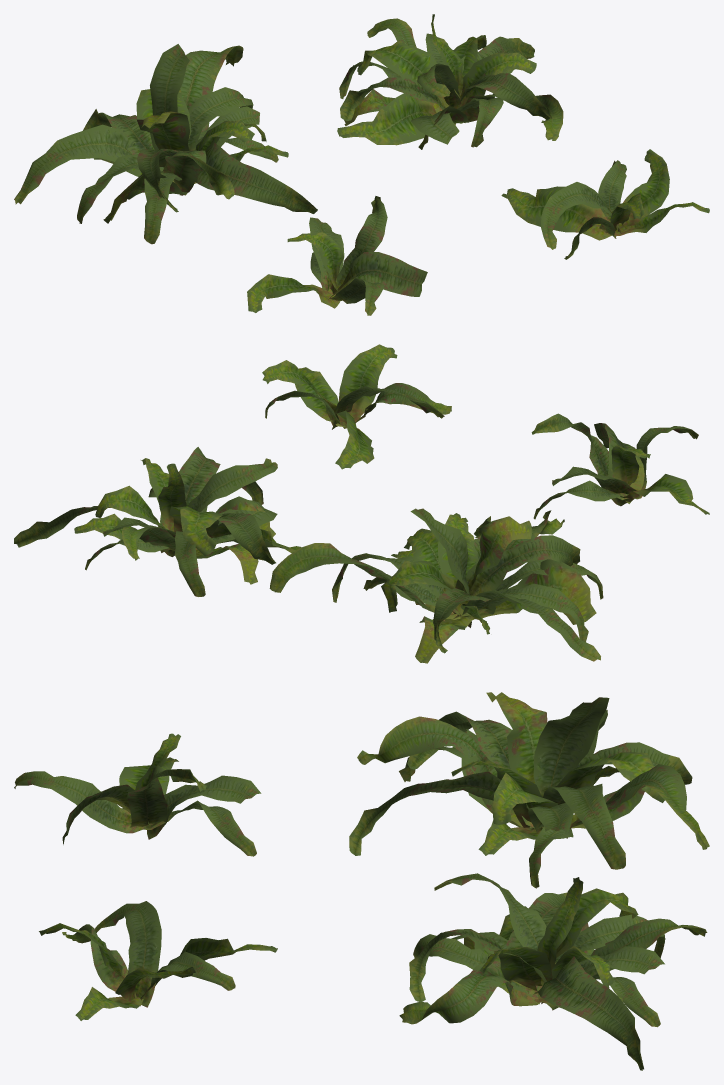
The model's file is fern_02.glb.
3 renders of one model, top to bottom at view 1: azimuth 30°, elevation 25°; view 2: azimuth 150°, elevation 25°; view 3: azimuth 270°, elevation 25°, orthographic. The views are drawn at different scales.
Visible parts, largest first — view 1: fern_02_b; view 2: fern_02_b; view 3: fern_02_b.
Boxes of the visible parts, left/top/right/bottom form: fern_02_b: left=14, top=14, right=709, bottom=315; fern_02_b: left=14, top=344, right=709, bottom=663; fern_02_b: left=14, top=692, right=709, bottom=1070.
Bounding box in the file's own units: 1.97 × 0.4277 × 1.72.
Materials: 1 (1 with a texture image).
